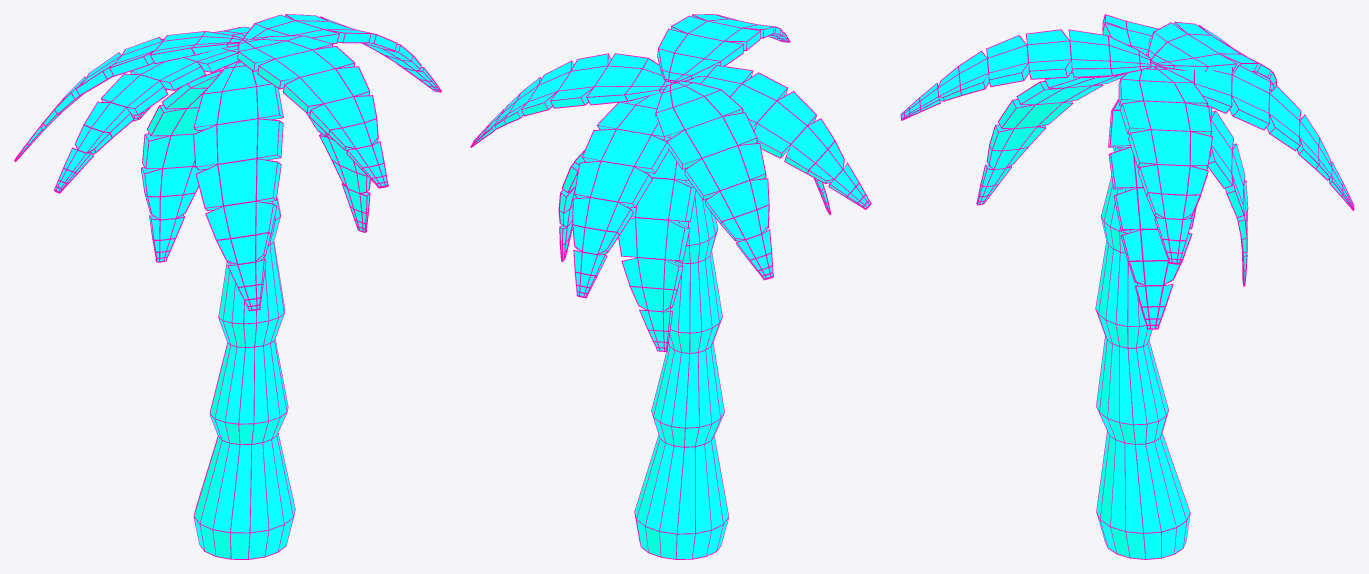
The model's file is Palm1.fbx.
3 views of the same model, side by side, from view 1: azimuth 30°, elevation 25°; view 2: azimuth 150°, elevation 25°; view 3: azimuth 270°, elevation 25° (orthographic). The views are drawn at different scales.
Parts seen in each view (by area): view 1: Cylinder, Cube.024, Cube.018, Cube.025, Cube.021, Cylinder.001, Cube.022, Cube.020, Cube.006, Cube, Cube.003, Cube.004 (+4 smaller); view 2: Cylinder, Cube.022, Cube.019, Cube.025, Cube.021, Cube.020, Cube.018, Cylinder.001, Cube.004, Cube.001, Cube.002, Cube.007 (+4 smaller); view 3: Cylinder, Cube.020, Cube.018, Cube.019, Cube.005, Cube.024, Cylinder.001, Cube.022, Cube.025, Cube.002, Cube, Cube.023 (+5 smaller).
Part boxes in pixels (<box>): Cylinder: <box>194,61,294,558</box>; Cube.024: <box>194,62,282,309</box>; Cube.018: <box>238,36,387,186</box>; Cube.025: <box>141,70,221,261</box>; Cube.021: <box>55,46,238,191</box>; Cylinder.001: <box>193,61,295,559</box>; Cube.022: <box>18,31,243,156</box>; Cube.020: <box>244,14,439,91</box>; Cube.006: <box>193,63,283,311</box>; Cube: <box>237,35,388,188</box>; Cube.003: <box>54,47,239,193</box>; Cube.004: <box>14,31,243,161</box>; Cylinder: <box>635,180,728,558</box>; Cube.022: <box>656,81,772,278</box>; Cube.019: <box>573,92,672,296</box>; Cube.025: <box>619,150,695,350</box>; Cube.021: <box>668,66,870,207</box>; Cube.020: <box>473,54,668,144</box>; Cube.018: <box>657,14,788,81</box>; Cylinder.001: <box>634,181,729,559</box>; Cube.004: <box>655,80,773,280</box>; Cube.001: <box>572,95,670,298</box>; Cube.002: <box>470,53,665,147</box>; Cube.007: <box>618,161,695,351</box>; Cylinder: <box>1096,147,1189,558</box>; Cube.020: <box>1119,67,1211,262</box>; Cube.018: <box>901,30,1150,118</box>; Cube.019: <box>1167,66,1353,206</box>; Cube.005: <box>1108,102,1194,328</box>; Cube.024: <box>978,73,1125,204</box>; Cylinder.001: <box>1095,147,1190,559</box>; Cube.022: <box>1147,22,1275,91</box>; Cube.025: <box>1208,107,1247,282</box>; Cube.002: <box>1118,67,1212,264</box>; Cube: <box>900,29,1151,120</box>; Cube.023: <box>1108,99,1196,329</box>.
Size of the model in its own units: 1135 by 1380 by 1138.
